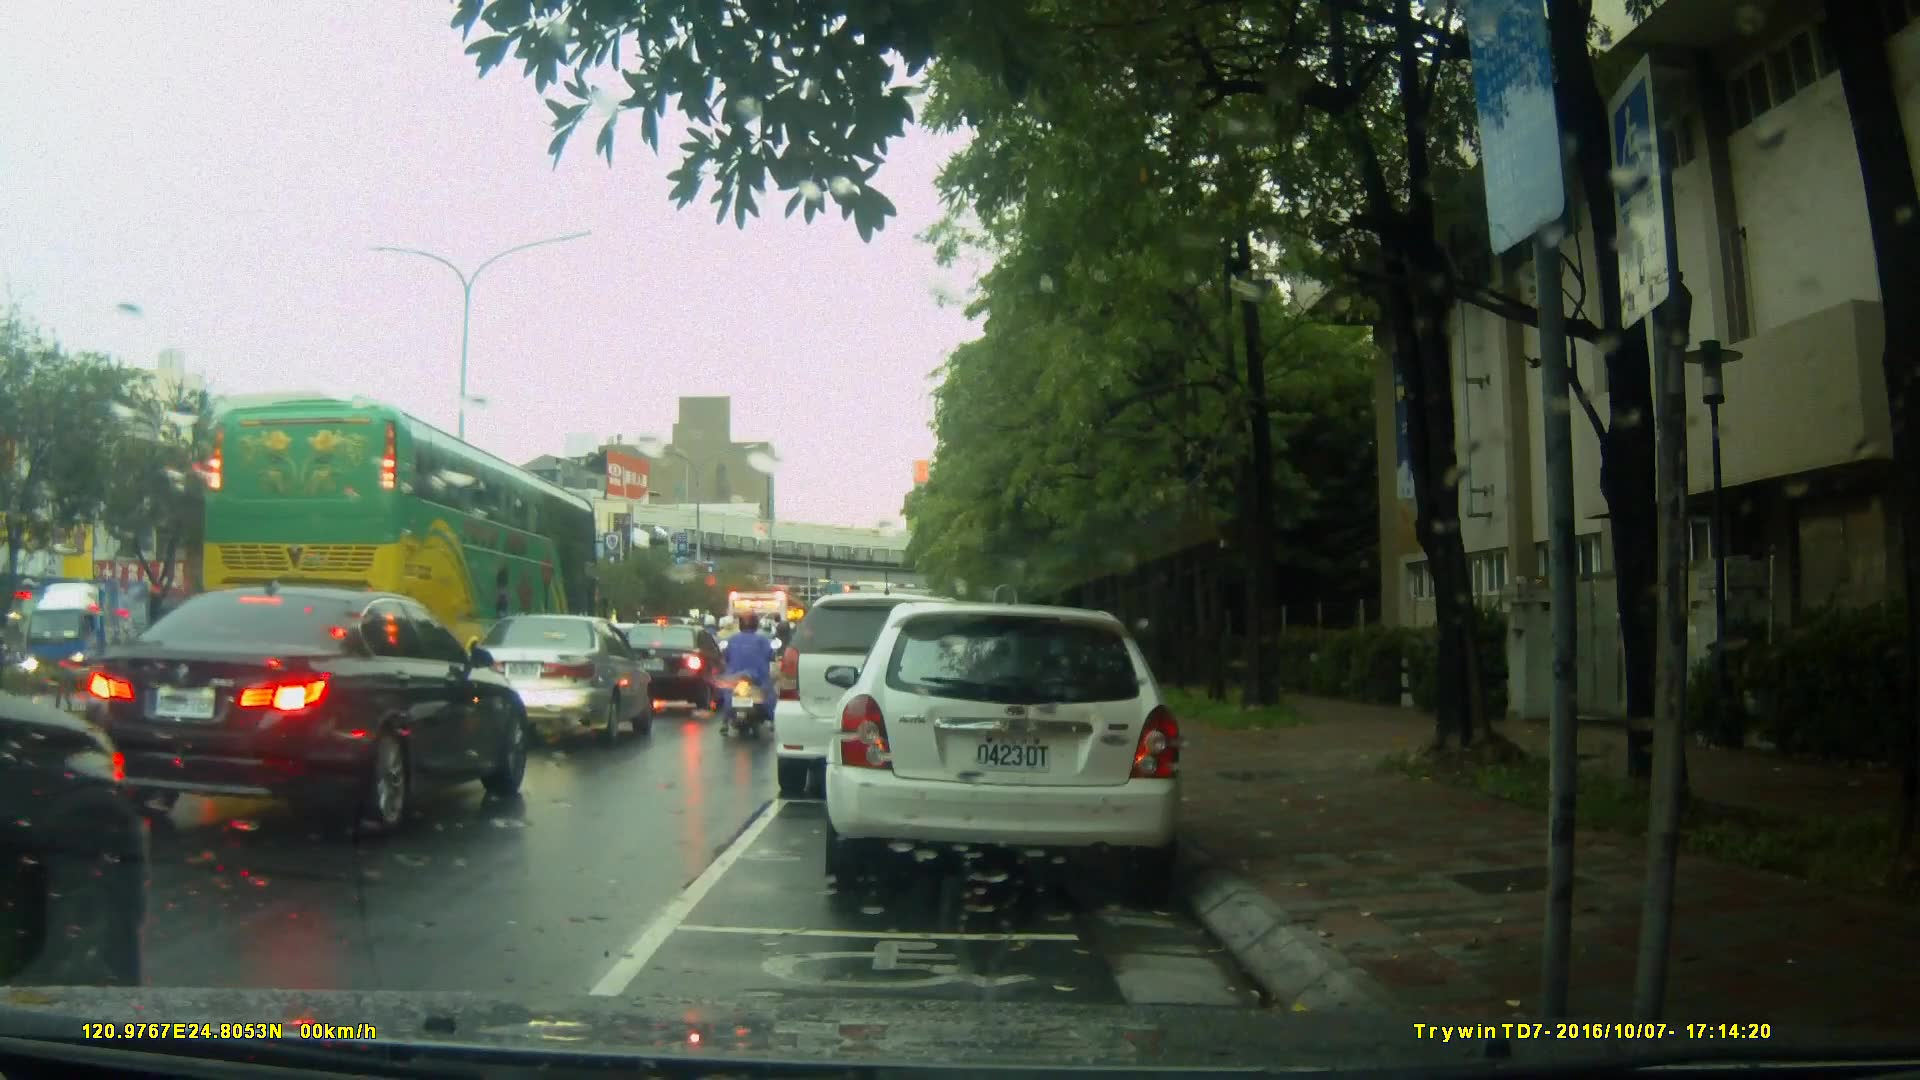rider: (711, 605, 773, 735)
vehicle: (83, 584, 533, 837), (831, 592, 1196, 897), (201, 394, 602, 657), (771, 592, 999, 796), (468, 612, 650, 750), (22, 576, 160, 682), (612, 623, 728, 717), (719, 586, 802, 705)
